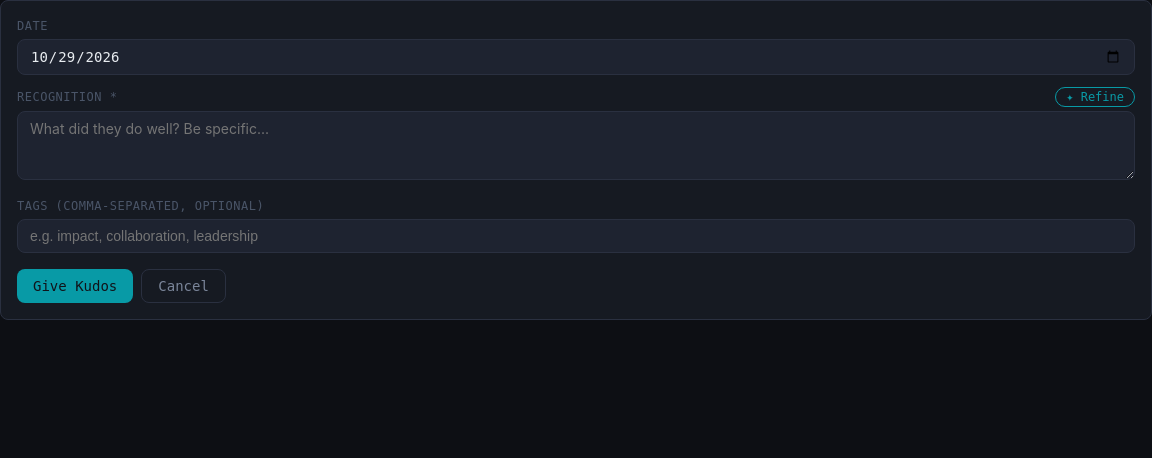
it: KudosForm › should strip preamble from AI response
The image size is (1152, 458).
Type "Good job on the demo" into the text box with test id "kudos-text-input" at (576, 146), box [17,111,1135,180]
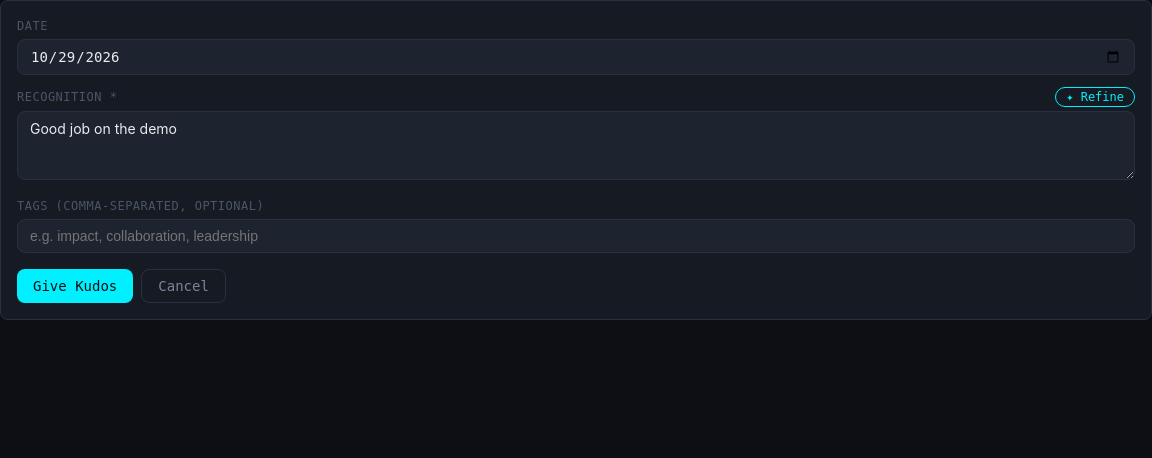
Click the button with test id "kudos-refine-btn" at (1095, 97), box [1055,87,1135,107]
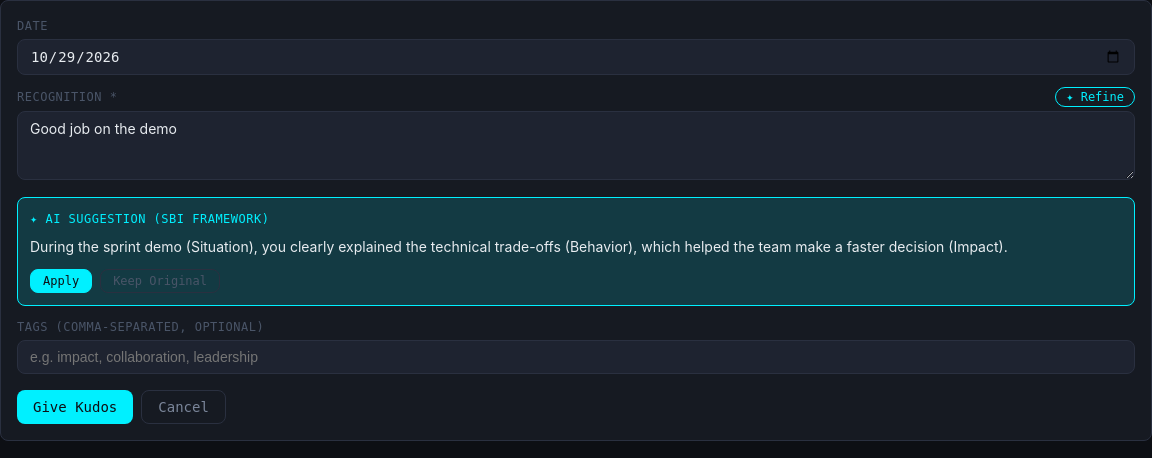
Check: the element with test id "kudos-ai-comparison" does not show "Here is the refined draft", box [17,197,1135,306]
Check: the element with test id "kudos-ai-comparison" is shown, box [17,197,1135,306]
Check: the element with test id "kudos-ai-comparison" shows "During the sprint demo", box [30,238,1008,255]
